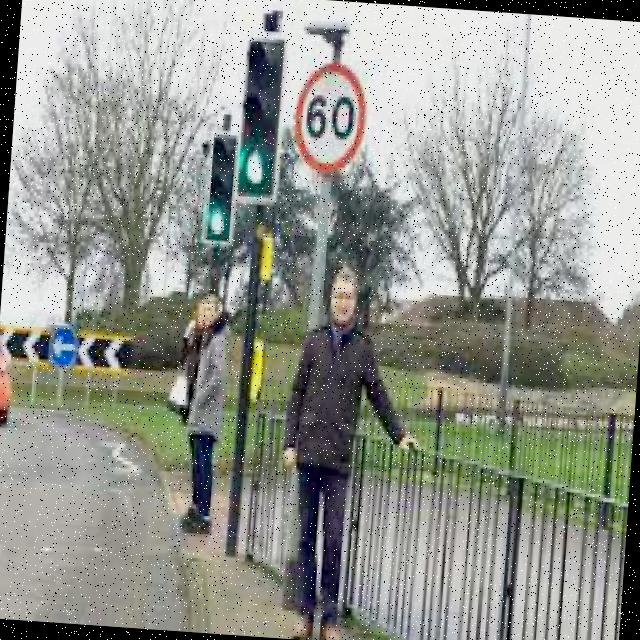Ograniczenie predkosci do 60: (288, 54, 371, 183)
